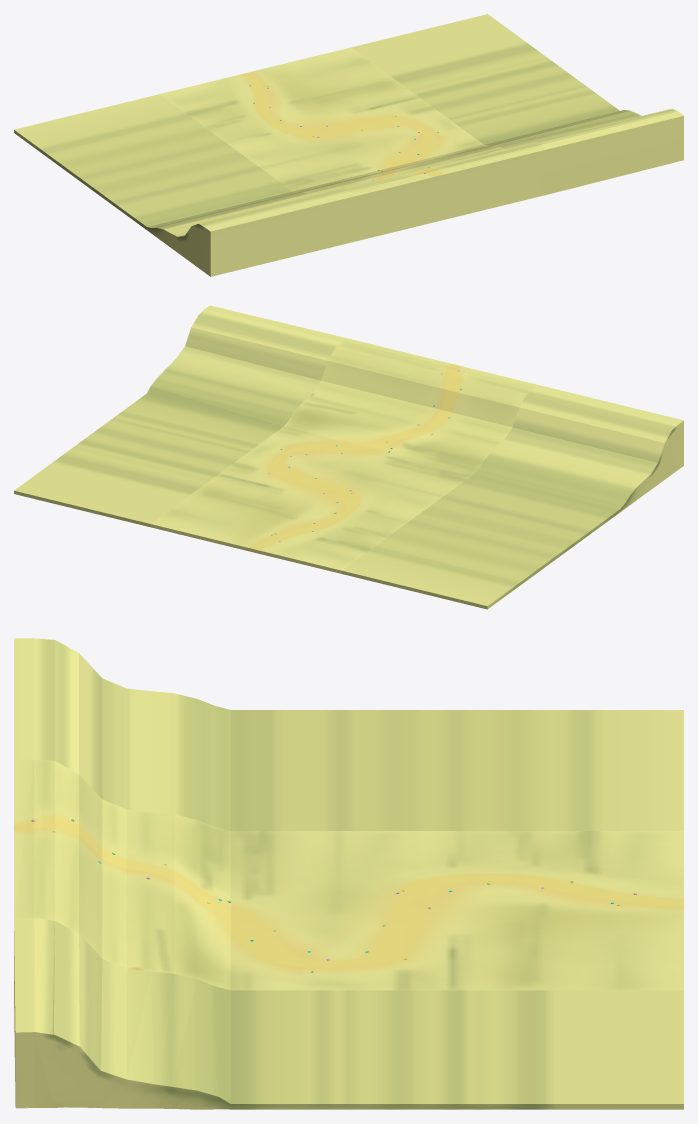
The model's file is Ground.fbx.
The picture shows the model from 3 angles, top to bottom: view 1: azimuth 30°, elevation 25°; view 2: azimuth 150°, elevation 25°; view 3: azimuth 270°, elevation 25°; orthographic projection. The views are drawn at different scales.
Parts seen in each view (by area): view 1: ground; view 2: ground; view 3: ground.
Part boxes in pixels (box(x1,y1,x2,y2)): ground: box(14, 14, 683, 276); ground: box(14, 305, 683, 609); ground: box(14, 638, 683, 1109).
Size of the model in its own units: 7428 by 687 by 5334.
